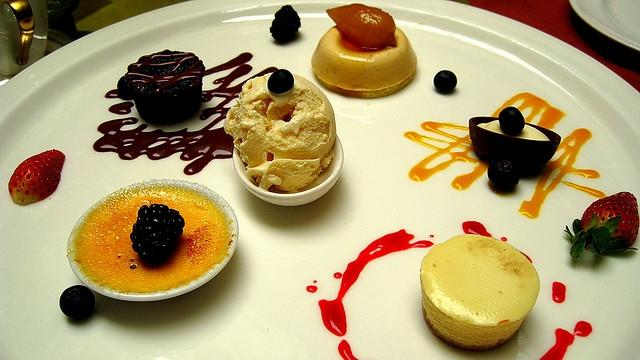blackberry: (130, 204, 185, 267), (269, 4, 301, 44)
blueberry: (130, 200, 185, 266), (60, 284, 96, 320), (488, 157, 520, 189), (498, 106, 525, 136), (268, 69, 294, 94), (272, 19, 296, 43), (433, 70, 458, 93), (117, 76, 133, 100)
strawberry: (564, 192, 640, 258), (8, 149, 66, 205), (326, 3, 397, 48)
